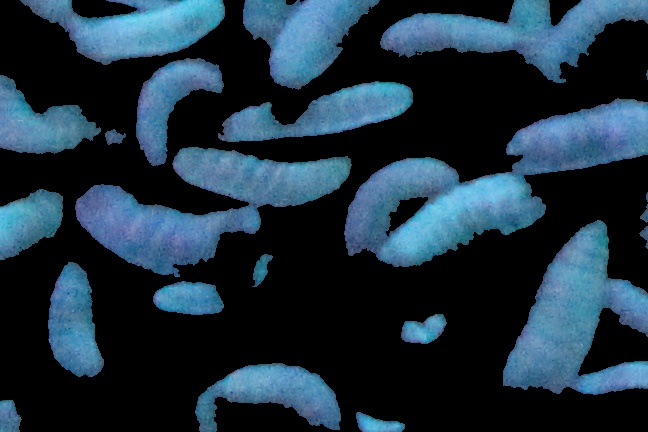larvae: (503, 221, 610, 389), (77, 184, 261, 277), (382, 178, 535, 268), (220, 82, 413, 149), (333, 159, 457, 253), (506, 97, 648, 173), (173, 147, 353, 206), (269, 1, 380, 87), (135, 59, 223, 165), (65, 1, 227, 57), (1, 72, 109, 156), (530, 1, 648, 77), (215, 364, 339, 432), (49, 264, 106, 378), (380, 13, 515, 56), (1, 189, 65, 258), (148, 278, 252, 314), (571, 363, 648, 397)
